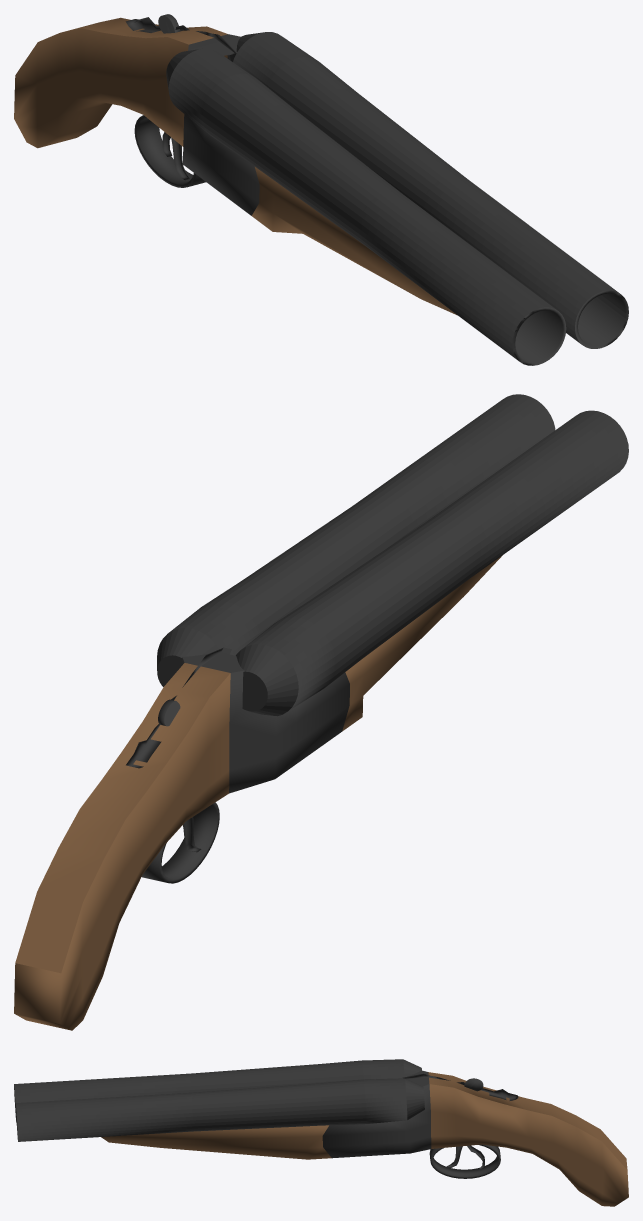
File: bettershotgun.fbx
3 renders of one model, top to bottom at view 1: azimuth 30°, elevation 25°; view 2: azimuth 150°, elevation 25°; view 3: azimuth 270°, elevation 25°, orthographic. The views are drawn at different scales.
Visible parts, largest first — view 1: BarrelandBreakAction, SawedOffShotgun; view 2: BarrelandBreakAction, SawedOffShotgun; view 3: BarrelandBreakAction, SawedOffShotgun.
Boxes of the visible parts, <box> form: BarrelandBreakAction: <box>168,32,628,365</box>; SawedOffShotgun: <box>14,14,260,215</box>; BarrelandBreakAction: <box>169,394,628,731</box>; SawedOffShotgun: <box>14,628,349,1030</box>; BarrelandBreakAction: <box>14,1059,407,1159</box>; SawedOffShotgun: <box>322,1059,628,1206</box>.
Size of the model in its own units: 0.1827 by 1.11 by 0.2669.
